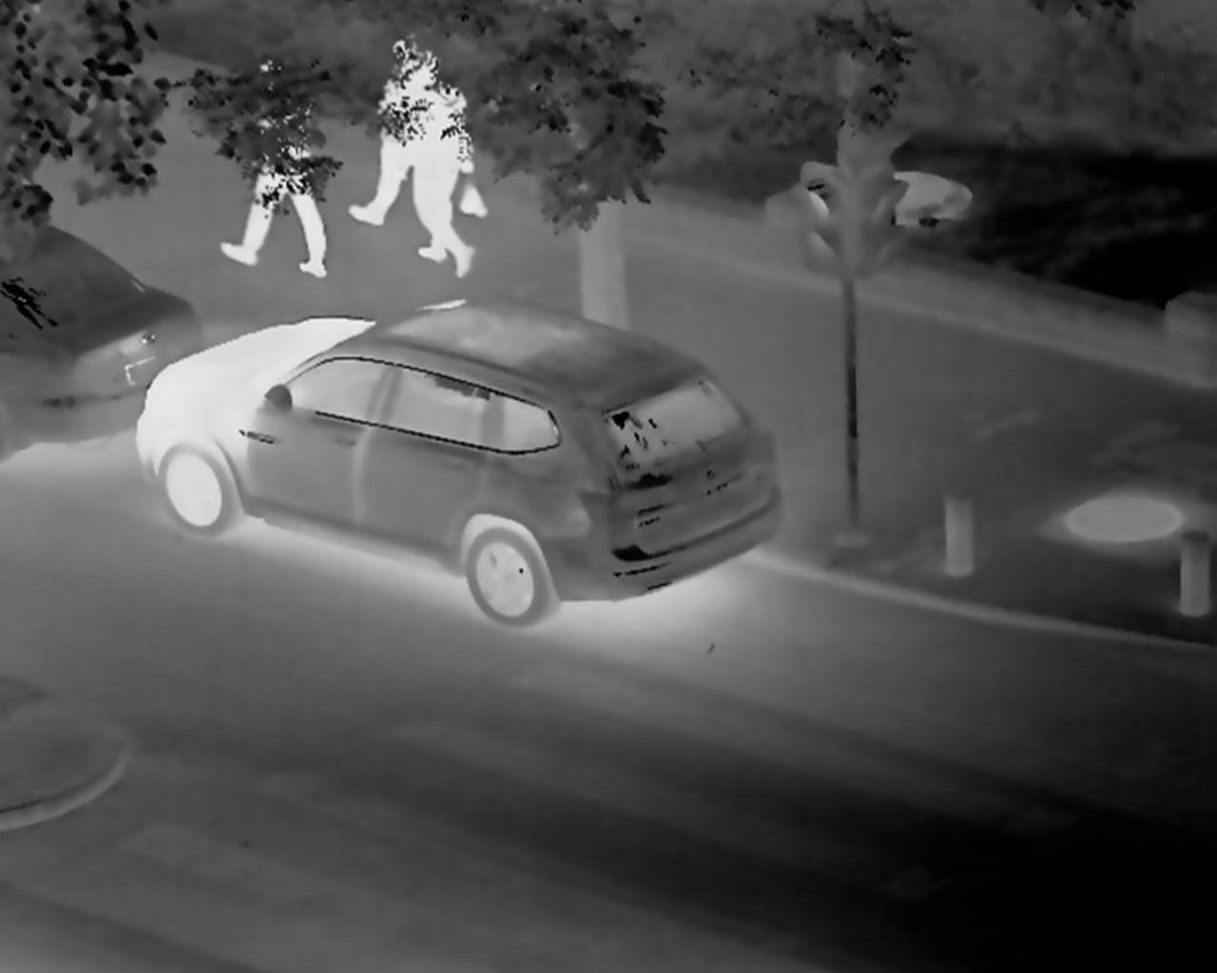person: (231, 59, 348, 291), (417, 75, 481, 307), (382, 52, 414, 248)
